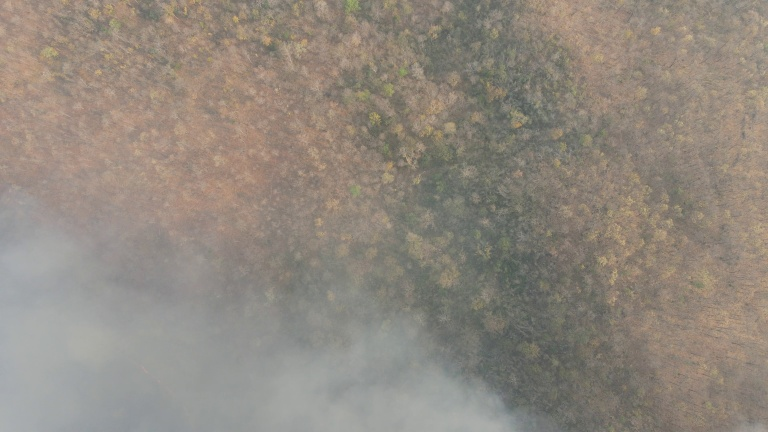fire: (138, 366, 182, 402)
smoke: (1, 264, 504, 432)
